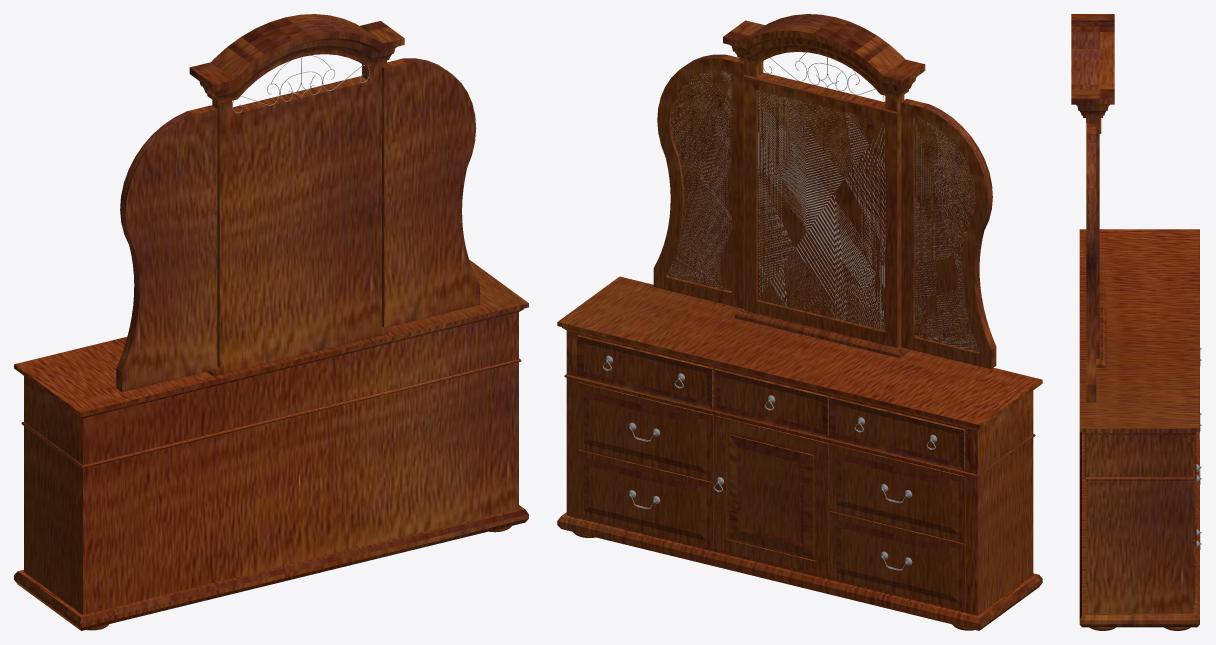
3 views of the same model, side by side, from view 1: azimuth 30°, elevation 25°; view 2: azimuth 150°, elevation 25°; view 3: azimuth 270°, elevation 25° (orthographic). The views are drawn at different scales.
Parts seen in each view (by area): view 1: mesh38_mesh38-geometry, mesh27_mesh27-geometry, mesh35_mesh35-geometry, mesh32_mesh32-geometry; view 2: mesh38_mesh38-geometry, mesh27_mesh27-geometry, mesh51_mesh51-geometry, mesh35_mesh35-geometry, mesh32_mesh32-geometry, mesh58_mesh58-geometry, mesh59_mesh59-geometry, mesh61_mesh61-geometry; view 3: mesh38_mesh38-geometry, mesh27_mesh27-geometry, mesh32_mesh32-geometry, mesh51_mesh51-geometry.
Boxes of the visible parts, x1=… form: mesh38_mesh38-geometry: x1=14, y1=259, x2=528, y2=630; mesh27_mesh27-geometry: x1=189, y1=14, x2=404, y2=376; mesh35_mesh35-geometry: x1=116, y1=105, x2=217, y2=392; mesh32_mesh32-geometry: x1=382, y1=58, x2=479, y2=328; mesh38_mesh38-geometry: x1=557, y1=276, x2=1042, y2=630; mesh27_mesh27-geometry: x1=723, y1=14, x2=925, y2=358; mesh51_mesh51-geometry: x1=578, y1=382, x2=965, y2=610; mesh35_mesh35-geometry: x1=901, y1=98, x2=996, y2=368; mesh32_mesh32-geometry: x1=653, y1=54, x2=744, y2=308; mesh58_mesh58-geometry: x1=714, y1=415, x2=829, y2=576; mesh59_mesh59-geometry: x1=577, y1=335, x2=965, y2=471; mesh61_mesh61-geometry: x1=713, y1=368, x2=829, y2=437; mesh38_mesh38-geometry: x1=1079, y1=229, x2=1199, y2=627; mesh27_mesh27-geometry: x1=1071, y1=14, x2=1114, y2=367; mesh32_mesh32-geometry: x1=1086, y1=123, x2=1096, y2=402; mesh51_mesh51-geometry: x1=1193, y1=470, x2=1196, y2=604.
Size of the model in its own units: 0.6372 by 0.7502 by 0.1764.
